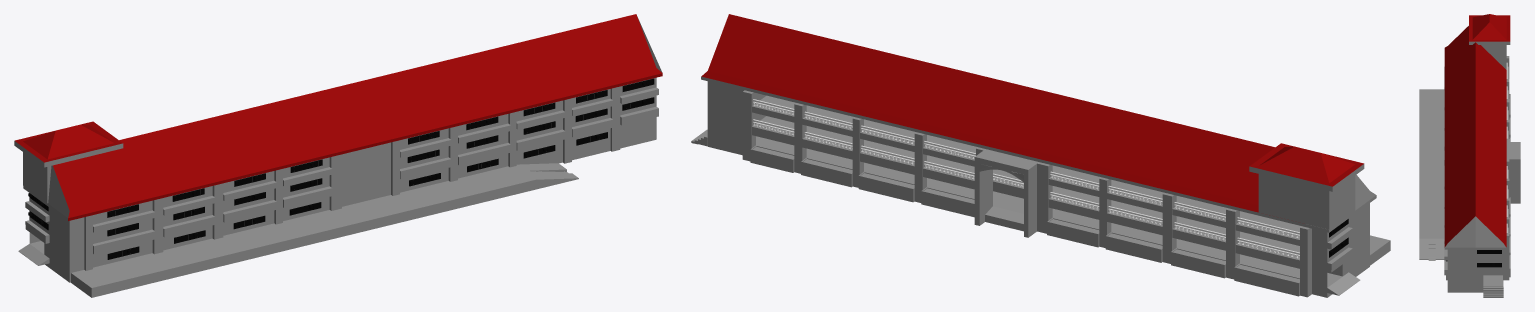
The model's file is PCH.fbx.
The picture shows the model from 3 angles, left to right: view 1: azimuth 30°, elevation 25°; view 2: azimuth 150°, elevation 25°; view 3: azimuth 270°, elevation 25°; orthographic projection. The views are drawn at different scales.
Visible parts, largest first — view 1: PCH; view 2: PCH; view 3: PCH.
Part boxes in pixels (x1=…): PCH: x1=14, y1=14, x2=662, y2=297; PCH: x1=691, y1=14, x2=1390, y2=297; PCH: x1=1419, y1=14, x2=1520, y2=297.
Size of the model in its own units: 80802 by 16124 by 16780.
